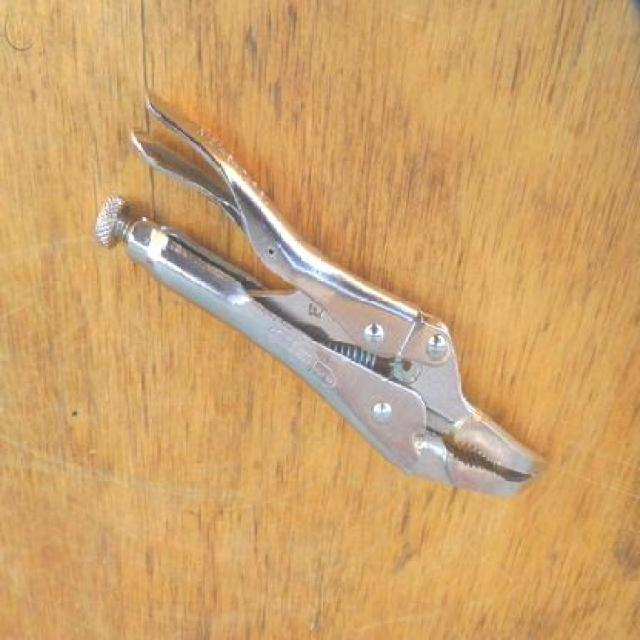pliers: (85, 100, 548, 500)
